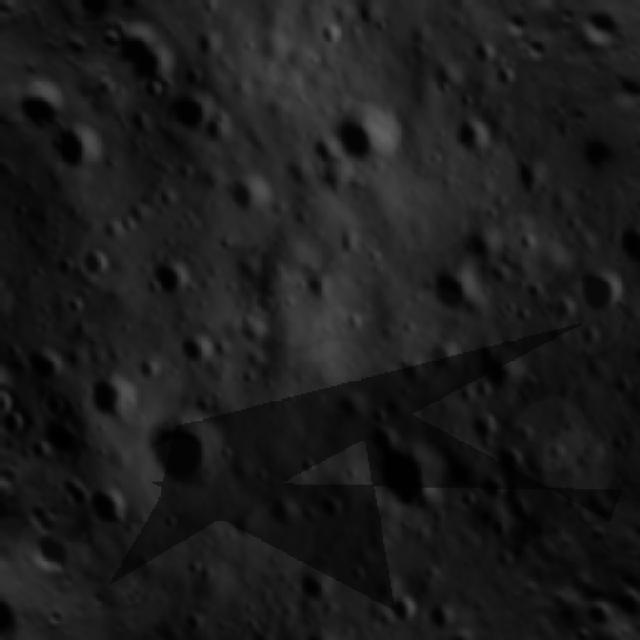crater: (125, 375, 260, 511), (349, 406, 462, 520), (306, 78, 416, 190), (450, 314, 539, 406), (145, 68, 232, 154), (30, 109, 116, 193), (62, 350, 146, 435), (409, 243, 489, 325), (131, 232, 204, 306), (207, 151, 279, 224), (560, 254, 629, 323), (156, 308, 224, 375), (70, 465, 136, 533), (441, 100, 507, 166), (9, 323, 74, 389), (278, 548, 340, 610), (366, 574, 429, 635), (315, 376, 376, 436), (378, 334, 436, 392), (248, 480, 304, 535), (235, 276, 291, 330), (464, 461, 514, 512), (454, 394, 504, 444), (601, 207, 640, 269), (305, 479, 353, 526), (295, 260, 340, 306), (484, 431, 528, 475), (0, 351, 25, 422), (185, 621, 259, 640), (0, 253, 15, 306), (0, 189, 12, 255)
